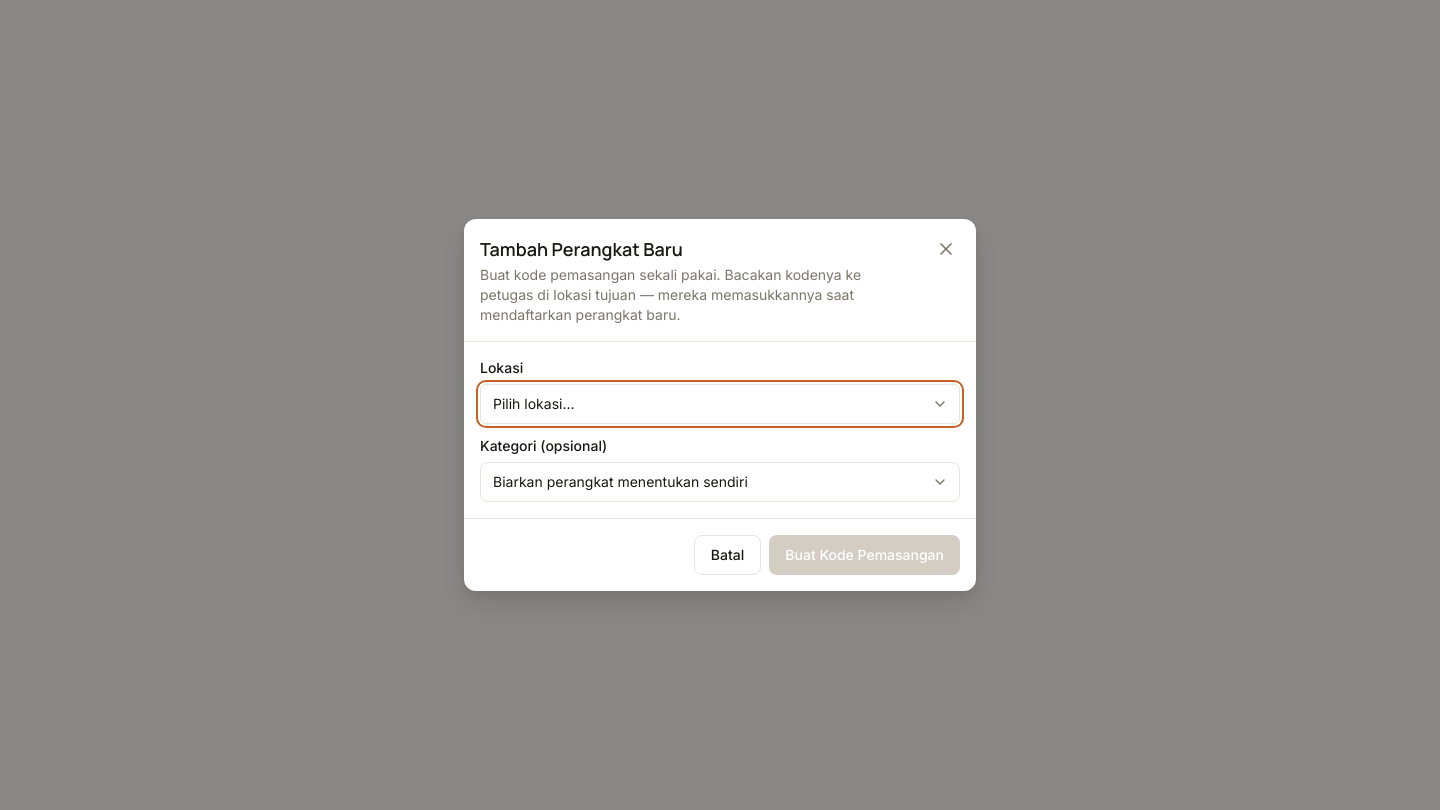
Test: AddDevicePairingModal › shows a readable error and stays on the form when minting fails
This screenshot has width=1440, height=810.
Select "Outlet Balikpapan Baru" in the dropdown labelled "Lokasi" at (720, 404), box [480,384,960,424]
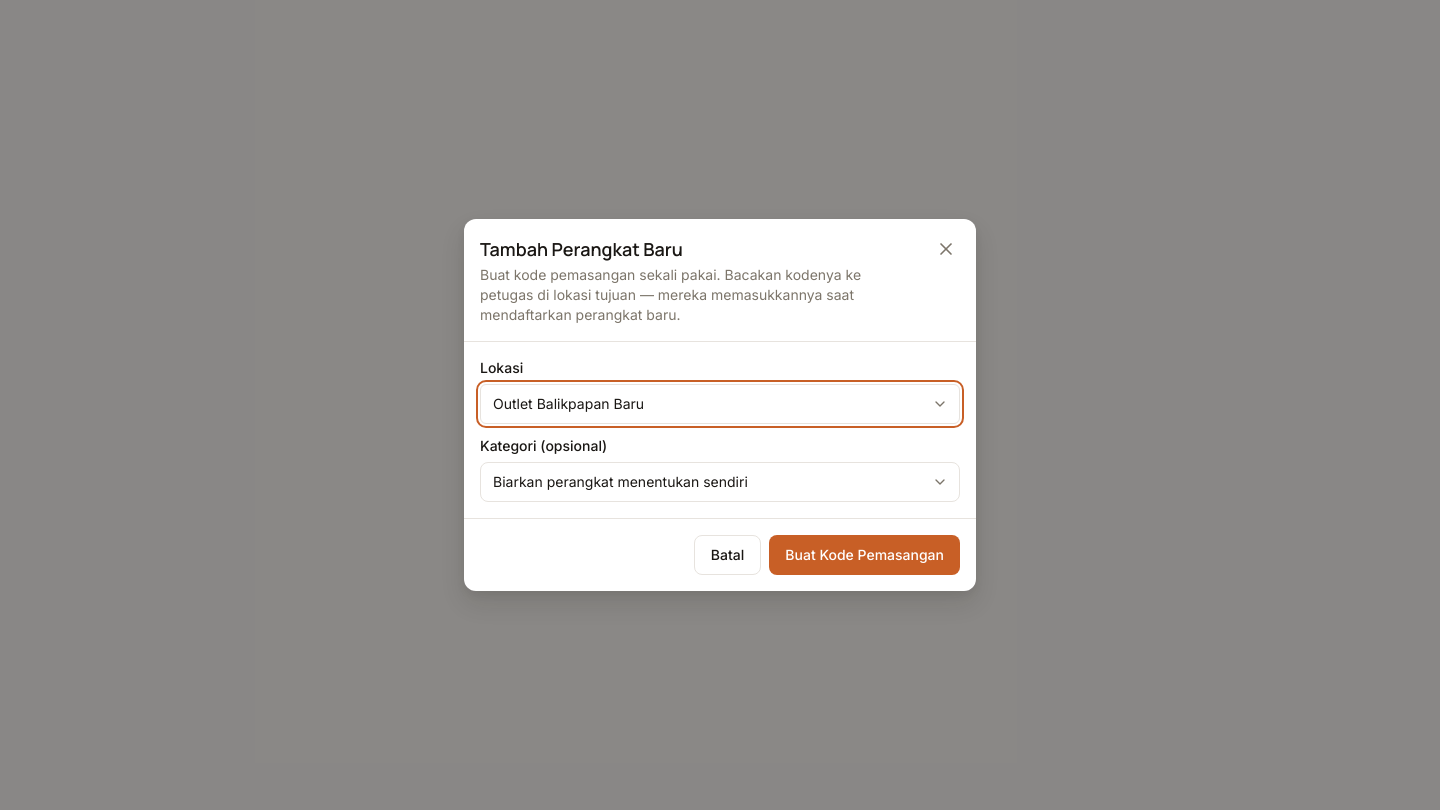
Click the button "Buat Kode Pemasangan".
click(865, 555)  # box [769,535,960,575]
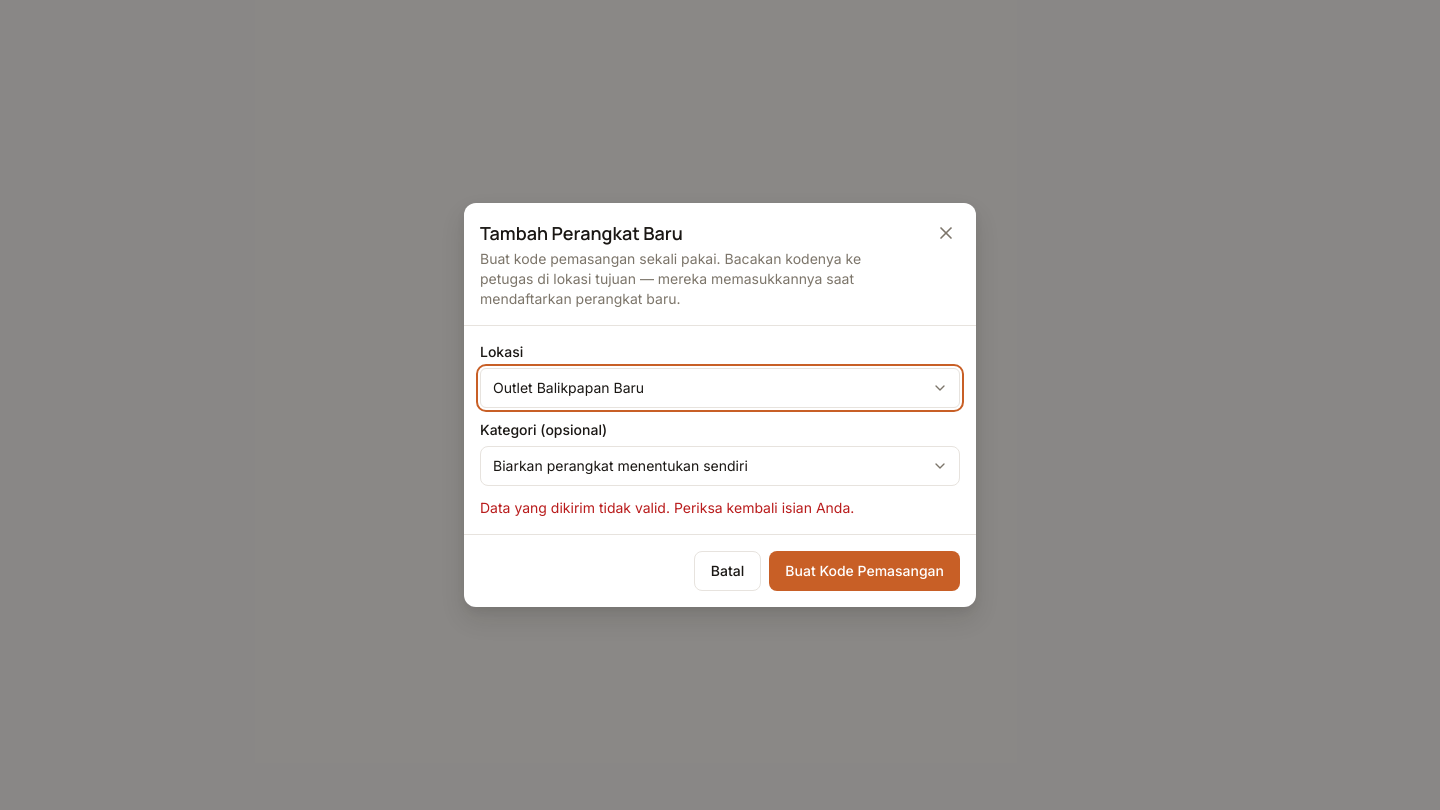
Check: the text "Data yang dikirim tidak valid. Periksa kembali isian Anda." is shown, box [480,499,854,516]
